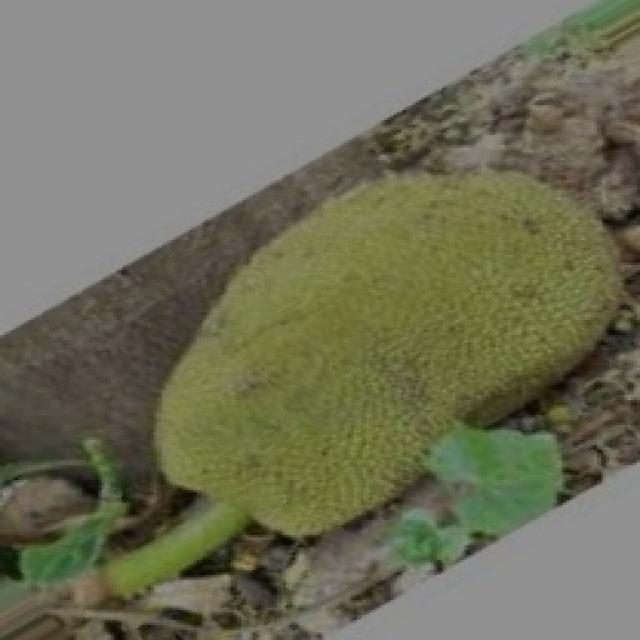Fruit: (237, 125, 640, 473)
